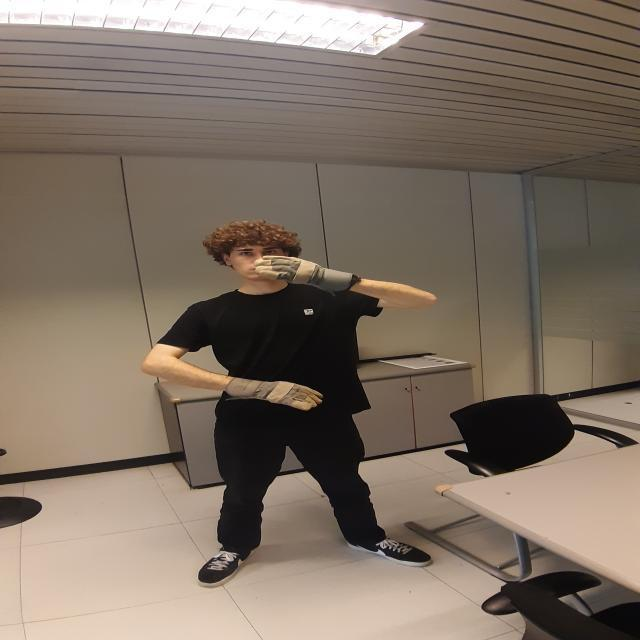gloved_hand: (255, 253, 359, 292), (225, 374, 324, 412)
